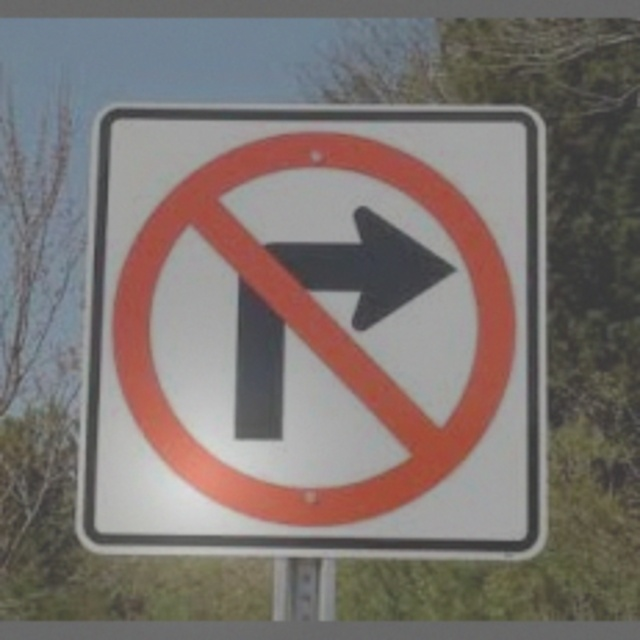Right_Turn_Prohibited: (110, 110, 524, 527)
